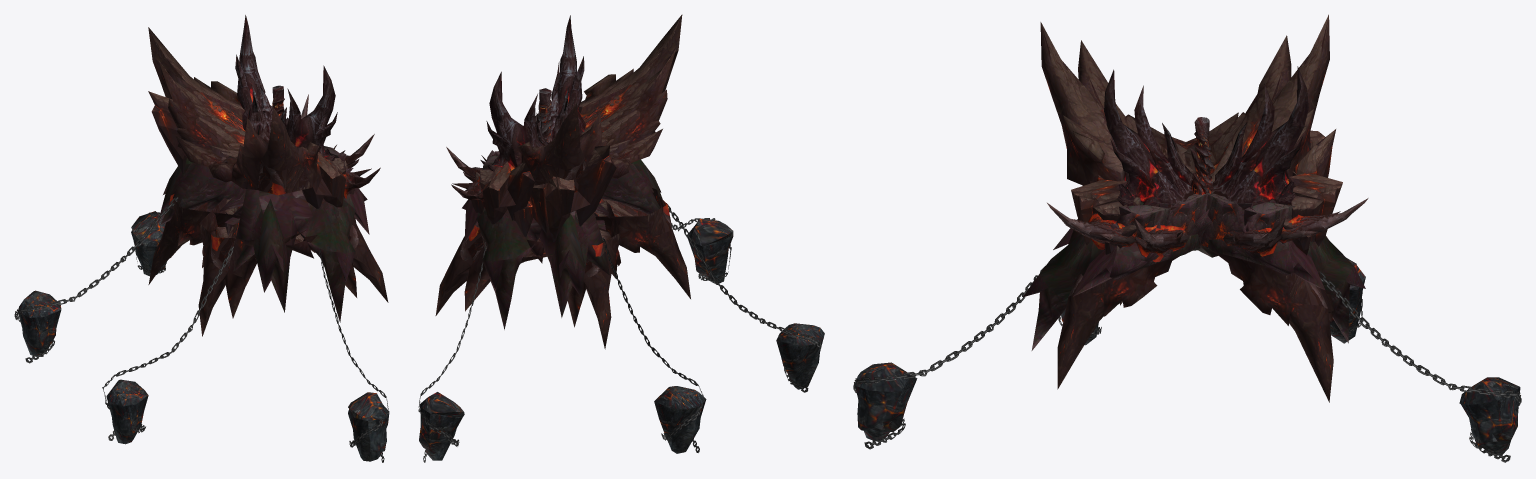
File: ZC_001Jmoku.FBX
The picture shows the model from 3 angles, left to right: view 1: azimuth 30°, elevation 25°; view 2: azimuth 150°, elevation 25°; view 3: azimuth 270°, elevation 25°; orthographic projection. The views are drawn at different scales.
Parts seen in each view (by area): view 1: ZC_001Jmoku; view 2: ZC_001Jmoku; view 3: ZC_001Jmoku.
Part boxes in pixels (x1,y1,x2,y2): ZC_001Jmoku: (14, 15, 389, 462); ZC_001Jmoku: (418, 14, 824, 462); ZC_001Jmoku: (853, 14, 1521, 462).
Bounding box in the file's own units: 50.18 × 52.96 × 78.95.
